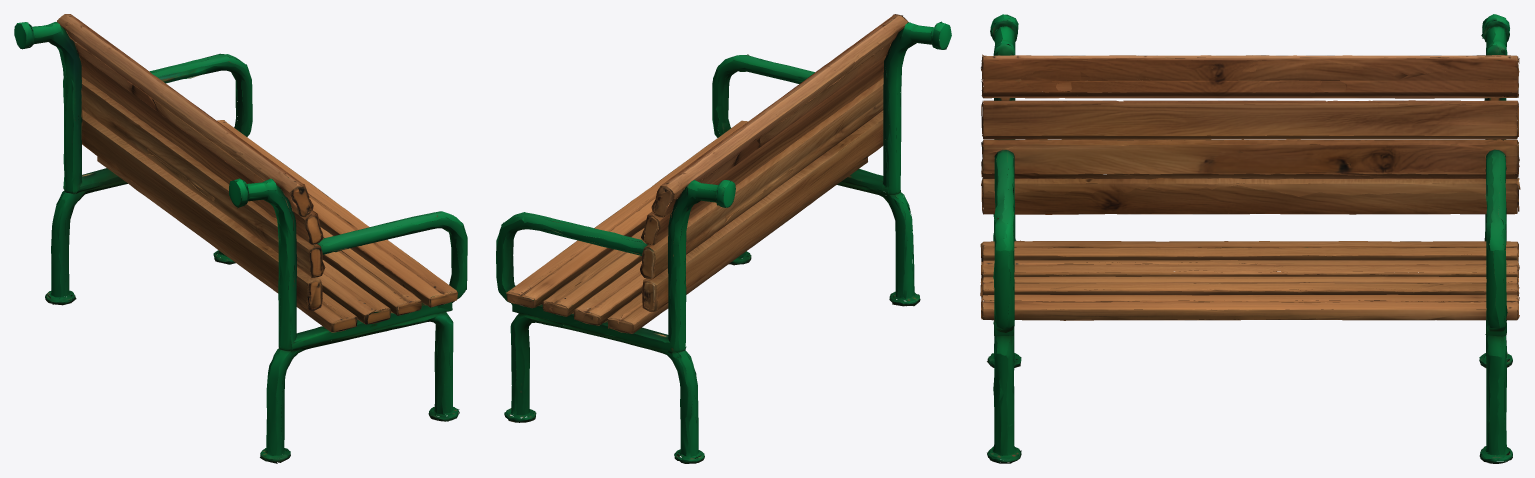
The picture shows the model from 3 angles, left to right: view 1: azimuth 30°, elevation 25°; view 2: azimuth 150°, elevation 25°; view 3: azimuth 270°, elevation 25°; orthographic projection. The views are drawn at different scales.
Visible parts, largest first — view 1: world; view 2: world; view 3: world.
Part boxes in pixels (<box>): world: <box>14,14,467,463</box>; world: <box>496,14,951,463</box>; world: <box>980,14,1520,463</box>.
Size of the model in its own units: 0.569 by 0.6726 by 1.
1 material, 1 textured.
